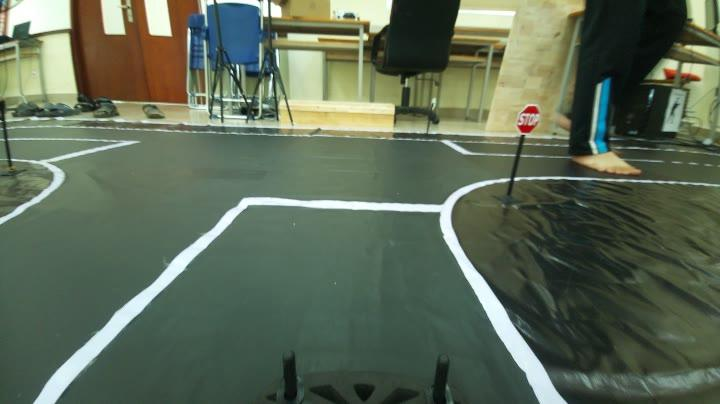stop: (511, 102, 544, 134)
